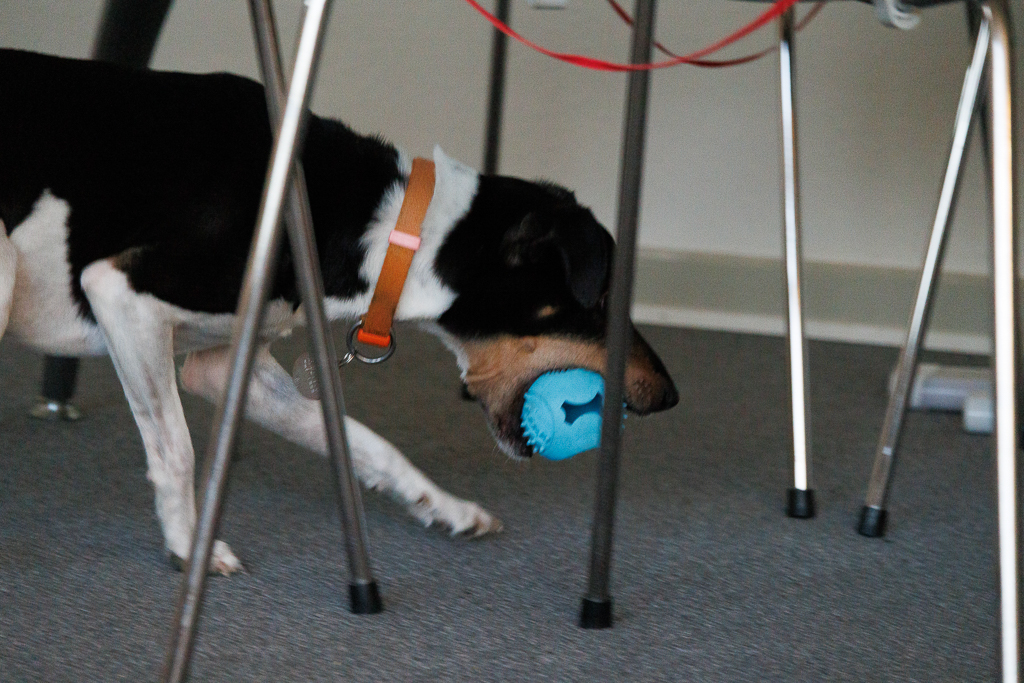Dog: (0, 39, 689, 585)
